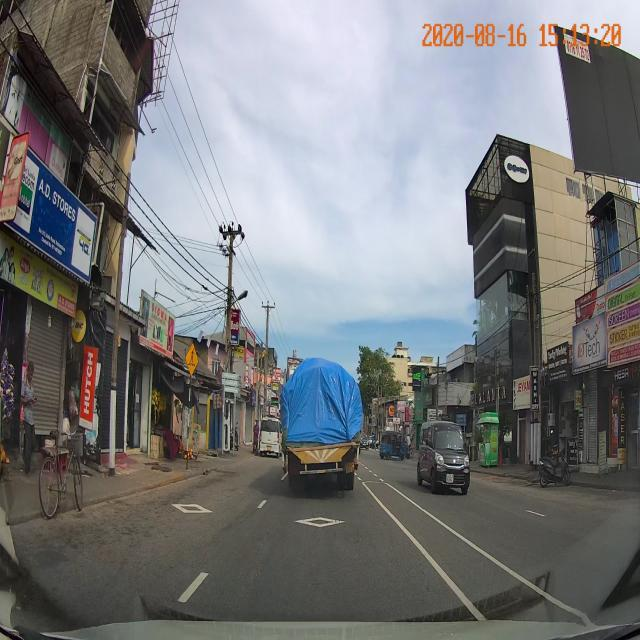diamond: (248, 516, 405, 530)
